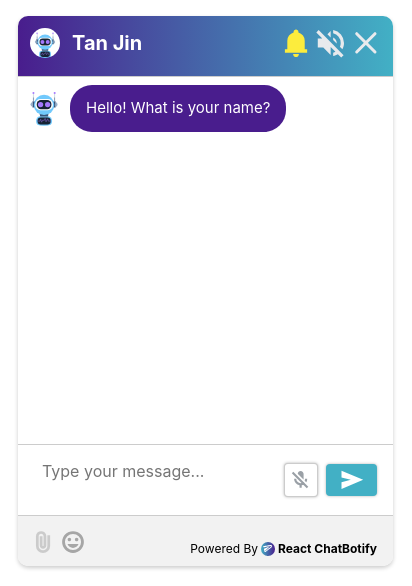
Test: Chat Bot Test Suite › Sends name and verifies bot reply
In the text box with placeholder "Type your message...": (155, 480) [34,453,276,507], type "Tan Jin"
Then press Enter
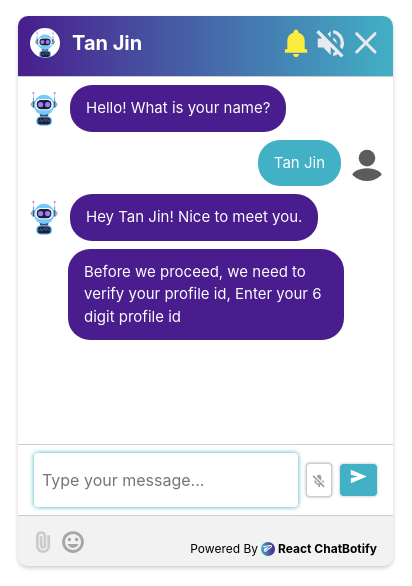
Check: the text "Hey Tan Jin!" is shown, box [86,207,302,226]
Check: the text "Before we proceed" is shown, box [84,262,326,326]
